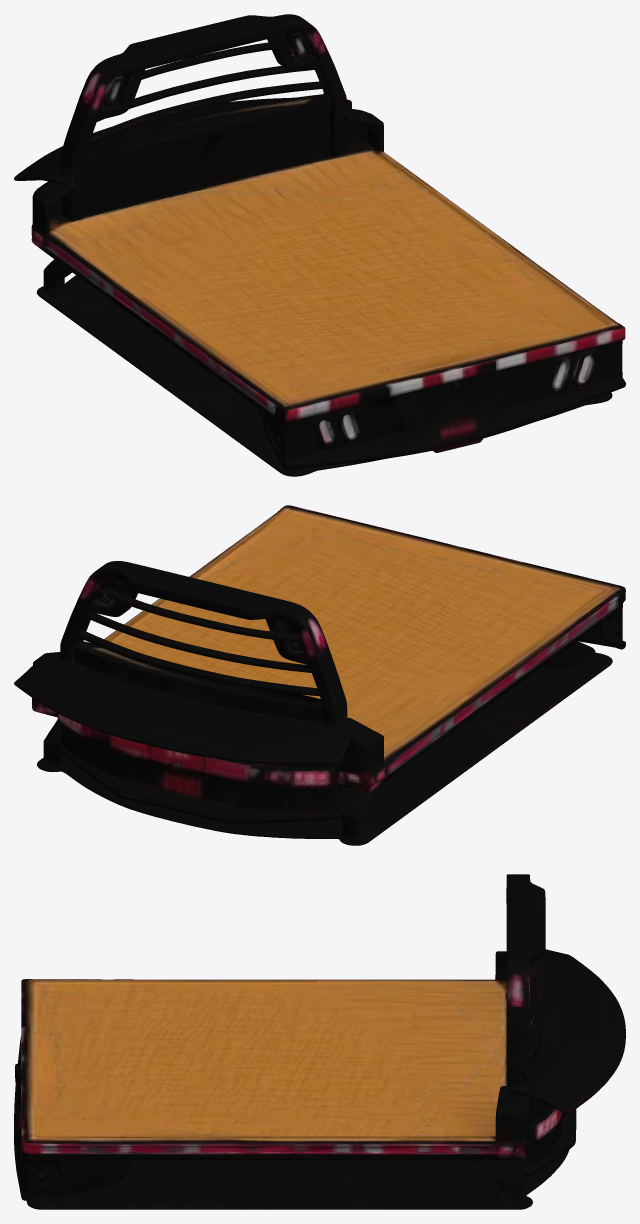
3 views of the same model, one above another, from view 1: azimuth 30°, elevation 25°; view 2: azimuth 150°, elevation 25°; view 3: azimuth 270°, elevation 25° (orthographic).
Visible parts, largest first — view 1: texture_pbr_v128; view 2: texture_pbr_v128; view 3: texture_pbr_v128.
Part boxes in pixels (x1,y1,x2,y2): texture_pbr_v128: (14, 14, 625, 476); texture_pbr_v128: (14, 505, 625, 845); texture_pbr_v128: (14, 874, 625, 1209).
Bounding box in the file's own units: 0.6416 × 0.3968 × 1.01.
Materials: 1 (1 with a texture image).
